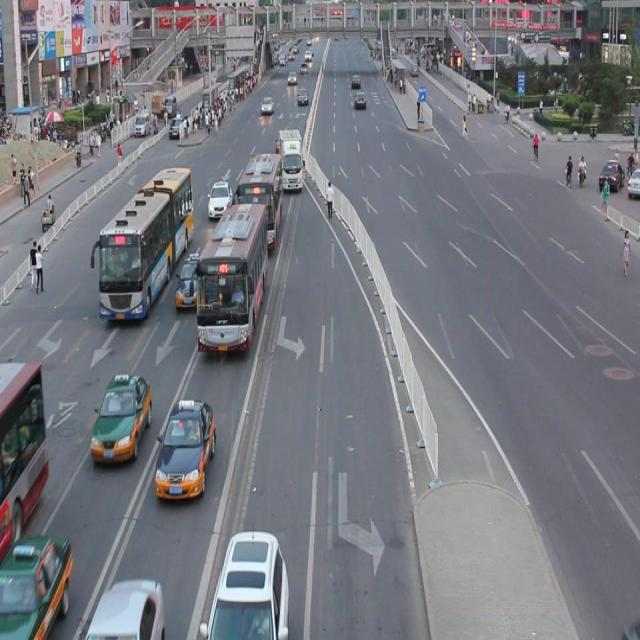bus: (278, 128, 303, 190)
car: (205, 527, 289, 640), (0, 535, 71, 640), (154, 399, 216, 499), (90, 373, 152, 459), (85, 582, 162, 640), (176, 253, 206, 306), (206, 182, 232, 217), (276, 133, 292, 159)
van: (90, 166, 192, 322), (196, 204, 268, 346), (1, 360, 49, 556), (234, 153, 280, 250)
